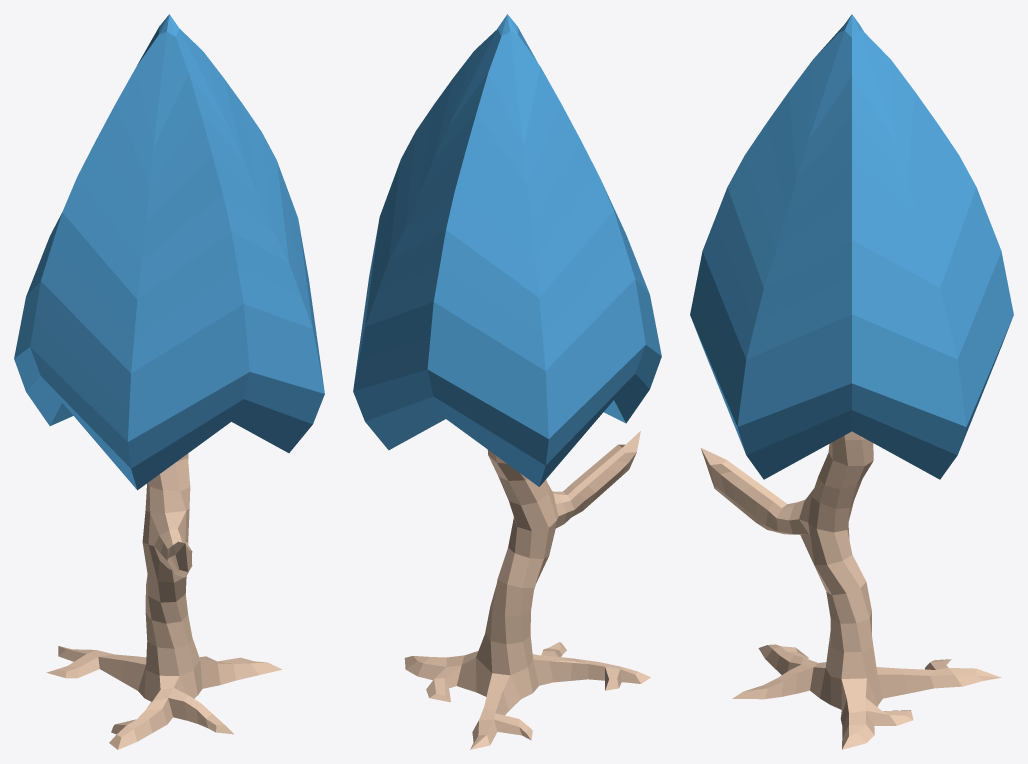
File: Tree1a.fbx
The picture shows the model from 3 angles, left to right: view 1: azimuth 30°, elevation 25°; view 2: azimuth 150°, elevation 25°; view 3: azimuth 270°, elevation 25°; orthographic projection.
Visible parts, largest first — view 1: Circle; view 2: Circle; view 3: Circle.
Part boxes in pixels (x1,y1,x2,y2): Circle: (14, 14, 324, 749); Circle: (353, 14, 661, 749); Circle: (690, 14, 1013, 749).
Bounding box in the file's own units: 276 × 641 × 276.
